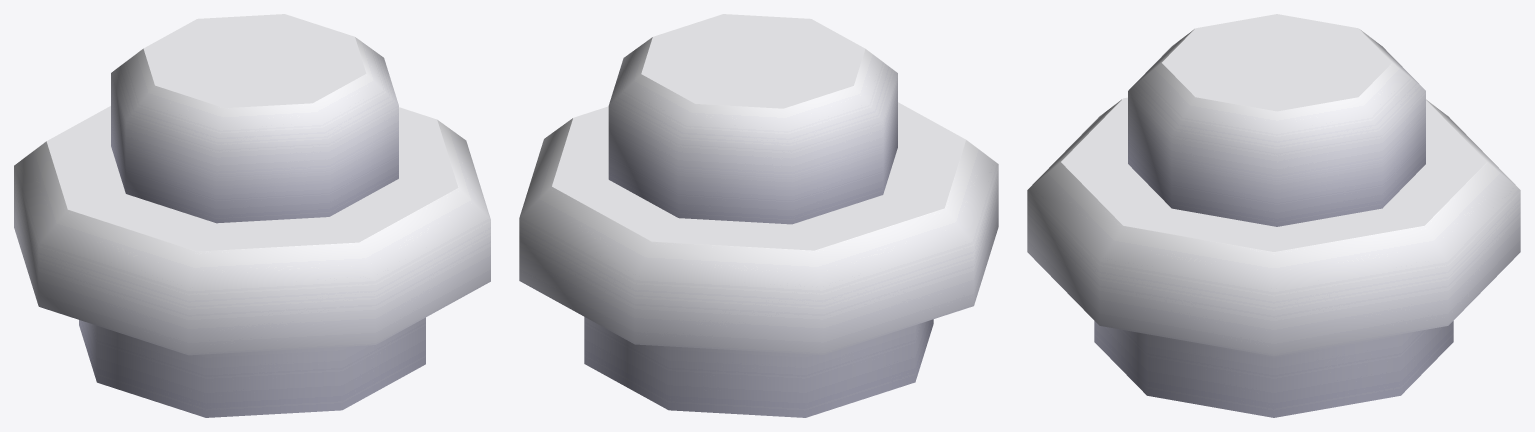
The model's file is bevel_hq_plate_1x1_round.glb.
3 renders of one model, left to right at view 1: azimuth 30°, elevation 25°; view 2: azimuth 150°, elevation 25°; view 3: azimuth 270°, elevation 25°, orthographic.
Parts seen in each view (by area): view 1: bevel-hq-plate-1x1-round; view 2: bevel-hq-plate-1x1-round; view 3: bevel-hq-plate-1x1-round.
Part boxes in pixels (x1,y1,x2,y2): bevel-hq-plate-1x1-round: (14, 14, 490, 417); bevel-hq-plate-1x1-round: (519, 14, 998, 417); bevel-hq-plate-1x1-round: (1027, 14, 1520, 417).
Size of the model in its own units: 0.0795 by 0.05 by 0.0795.
1 material, 1 textured.
